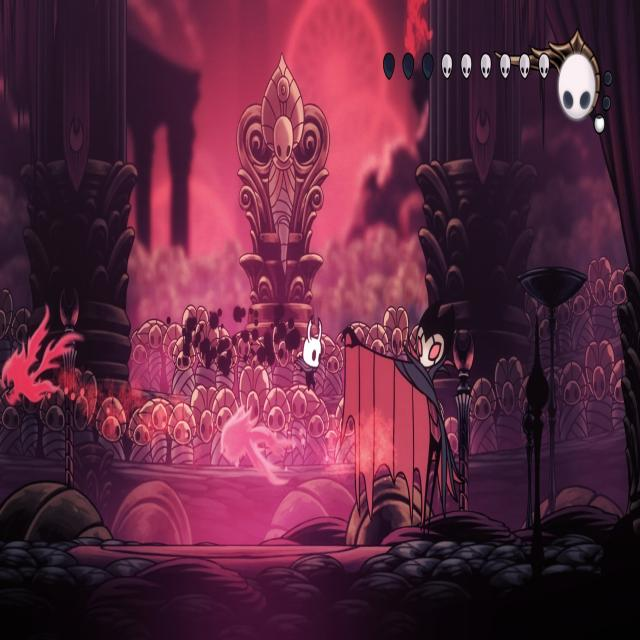Fire Bat: (1, 304, 82, 404), (221, 407, 292, 484)
Open Cloak: (333, 292, 466, 544)
Player: (294, 307, 324, 395)
